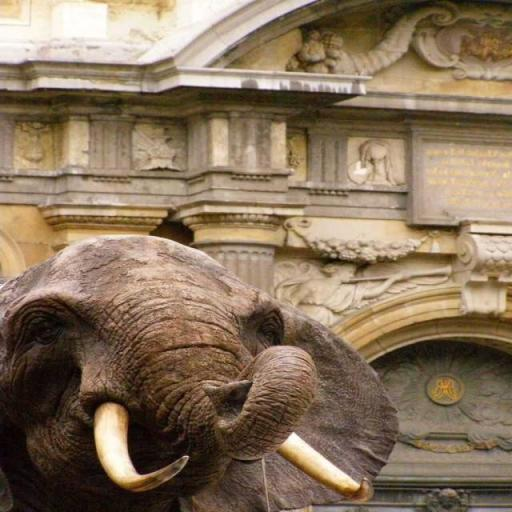Elephant: (0, 232, 400, 511)
